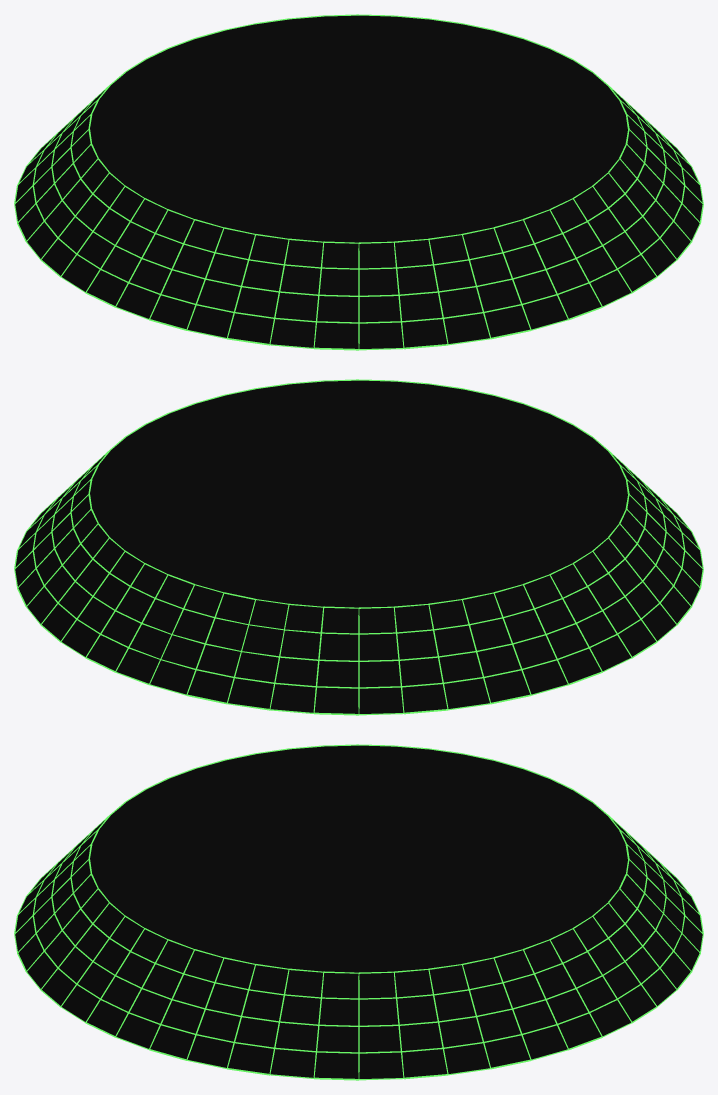
File: stand.glb
The picture shows the model from 3 angles, top to bottom: view 1: azimuth 30°, elevation 25°; view 2: azimuth 150°, elevation 25°; view 3: azimuth 270°, elevation 25°; orthographic projection.
Parts seen in each view (by area): view 1: PODIUM; view 2: PODIUM; view 3: PODIUM.
Part boxes in pixels (left/top/right/bottom): PODIUM: left=14, top=14, right=703, bottom=350; PODIUM: left=14, top=379, right=703, bottom=715; PODIUM: left=14, top=744, right=703, bottom=1080.
Size of the model in its own units: 5.04 by 0.6181 by 5.04.
